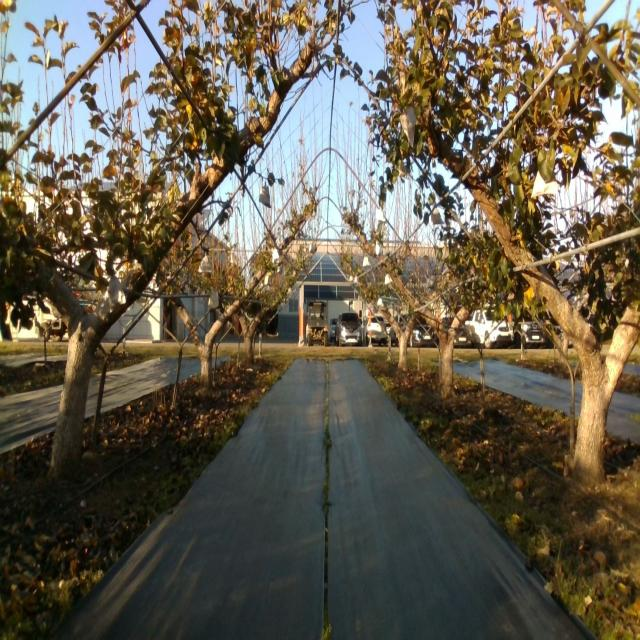pearbags: (530, 167, 560, 196), (399, 106, 416, 147), (107, 278, 127, 312), (259, 182, 271, 209), (198, 253, 213, 274)
